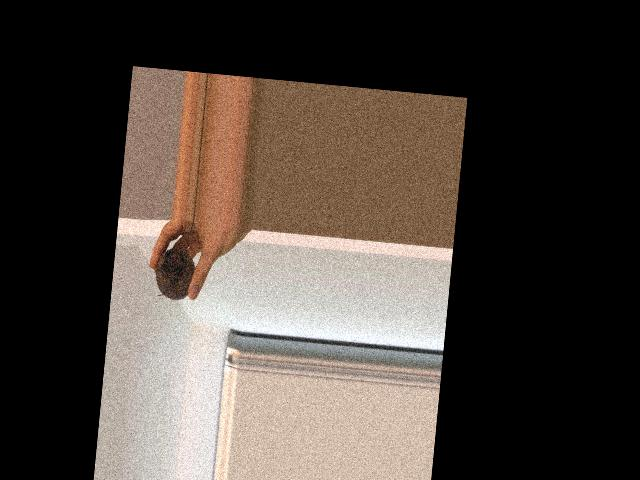beet: (151, 217, 200, 302)
